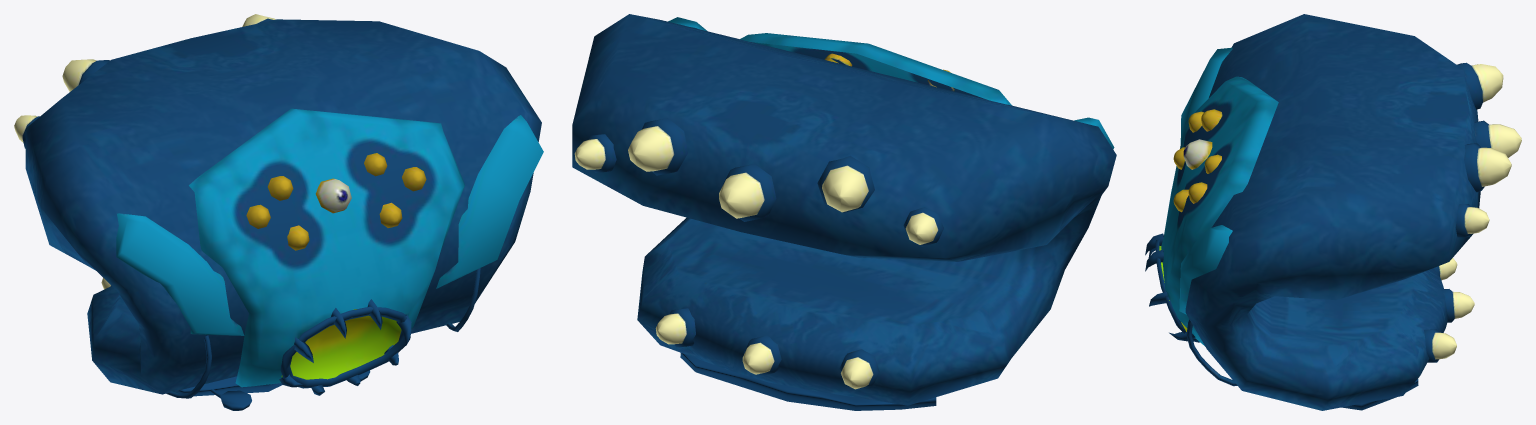
File: jeebie_blue.fbx
3 renders of one model, left to right at view 1: azimuth 30°, elevation 25°; view 2: azimuth 150°, elevation 25°; view 3: azimuth 270°, elevation 25°, orthographic. The views are drawn at different scales.
Parts seen in each view (by area): view 1: Blue_jeebie; view 2: Blue_jeebie; view 3: Blue_jeebie.
Boxes of the visible parts, left/top/right/bottom form: Blue_jeebie: left=14, top=14, right=543, bottom=410; Blue_jeebie: left=572, top=14, right=1116, bottom=410; Blue_jeebie: left=1145, top=14, right=1521, bottom=410.
Size of the model in its own units: 12.16 by 7.62 by 9.27.
1 material, 1 textured.
